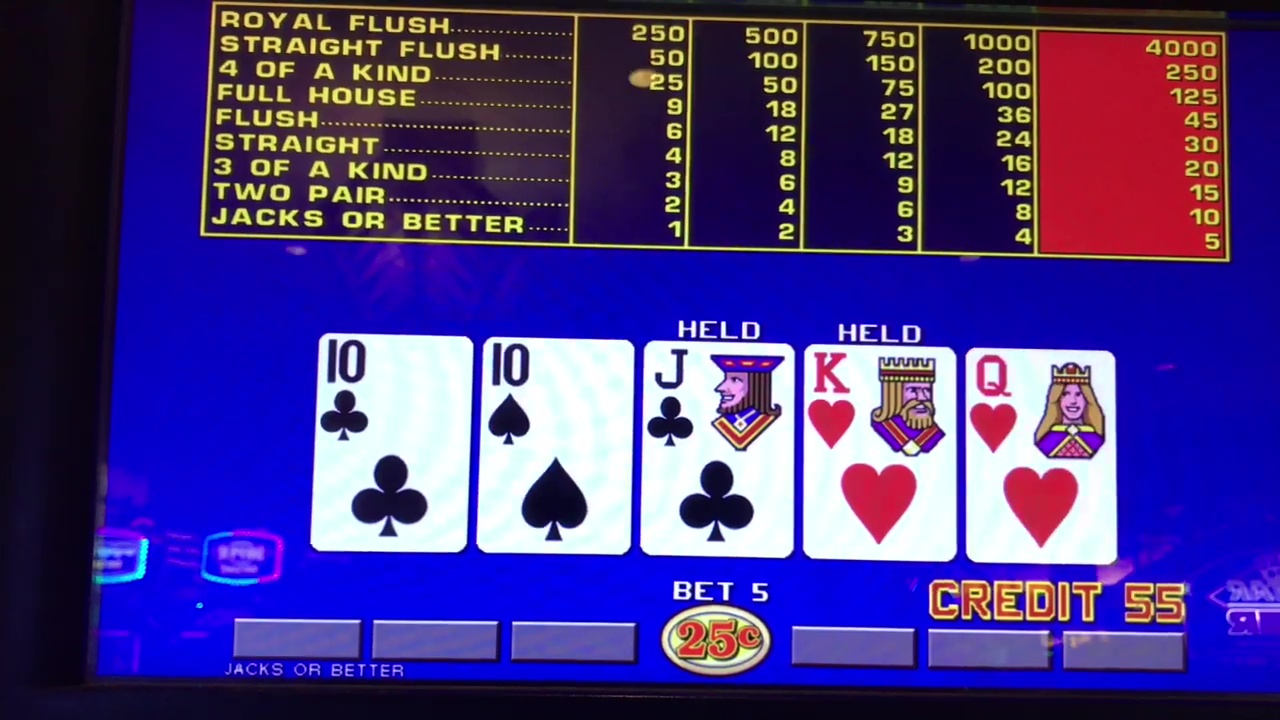CJ: (646, 344, 785, 456)
CT: (323, 336, 469, 453)
HK: (807, 347, 952, 462)
HQ: (969, 347, 1115, 463)
ST: (487, 342, 626, 457)
